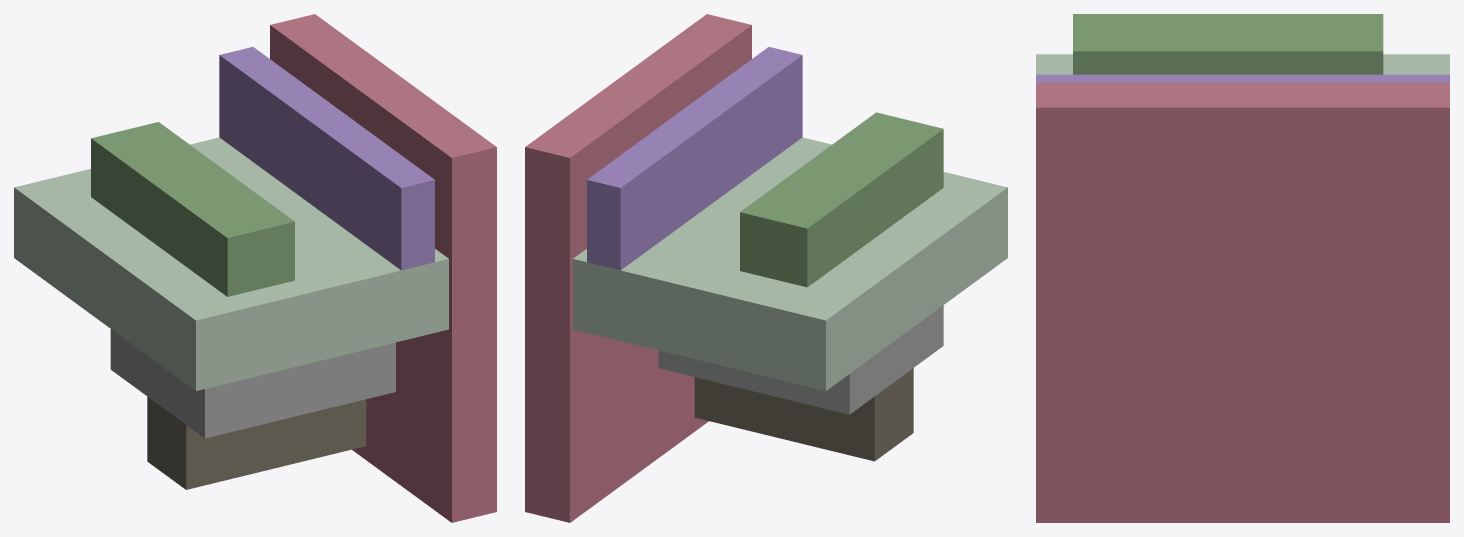
Rendered from 199513_pred.glb.
The picture shows the model from 3 angles, left to right: view 1: azimuth 30°, elevation 25°; view 2: azimuth 150°, elevation 25°; view 3: azimuth 270°, elevation 25°; orthographic projection. The views are drawn at different scales.
Parts seen in each view (by area): view 1: world; view 2: world; view 3: world.
Part boxes in pixels (bbox=[...]): world: bbox=[14, 14, 496, 522]; world: bbox=[525, 14, 1007, 522]; world: bbox=[1036, 14, 1449, 522].
Size of the model in its own units: 5.35 by 6.2 by 5.6.
